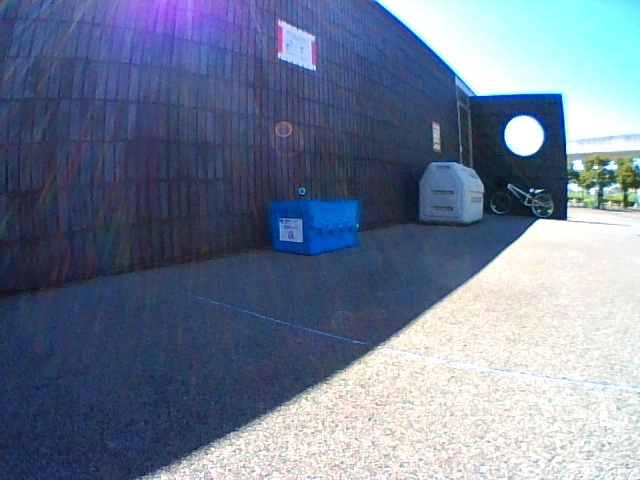blue_box: (268, 200, 358, 256)
tag_a: (281, 220, 302, 241)
